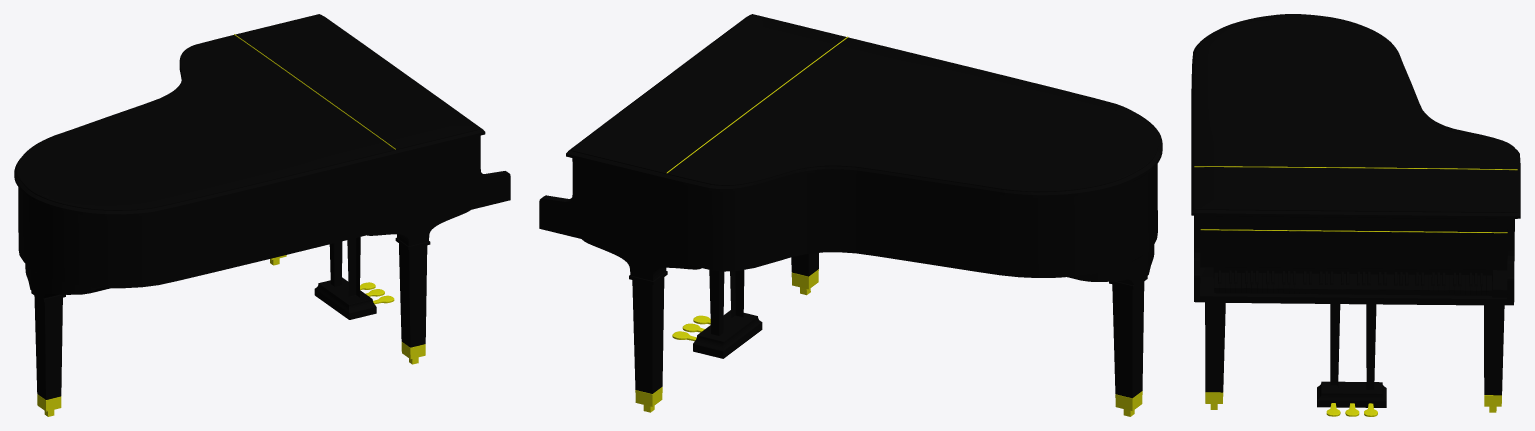
Rendered from model_design_piano.gltf.
3 views of the same model, side by side, from view 1: azimuth 30°, elevation 25°; view 2: azimuth 150°, elevation 25°; view 3: azimuth 270°, elevation 25° (orthographic). The views are drawn at different scales.
Visible parts, largest first — view 1: 6; view 2: 6; view 3: 6.
Boxes of the visible parts, x1=… form: 6: x1=14, y1=14, x2=510, y2=416; 6: x1=539, y1=14, x2=1162, y2=416; 6: x1=1191, y1=14, x2=1520, y2=416.
Size of the model in its own units: 3.94 by 2.01 by 2.59.
